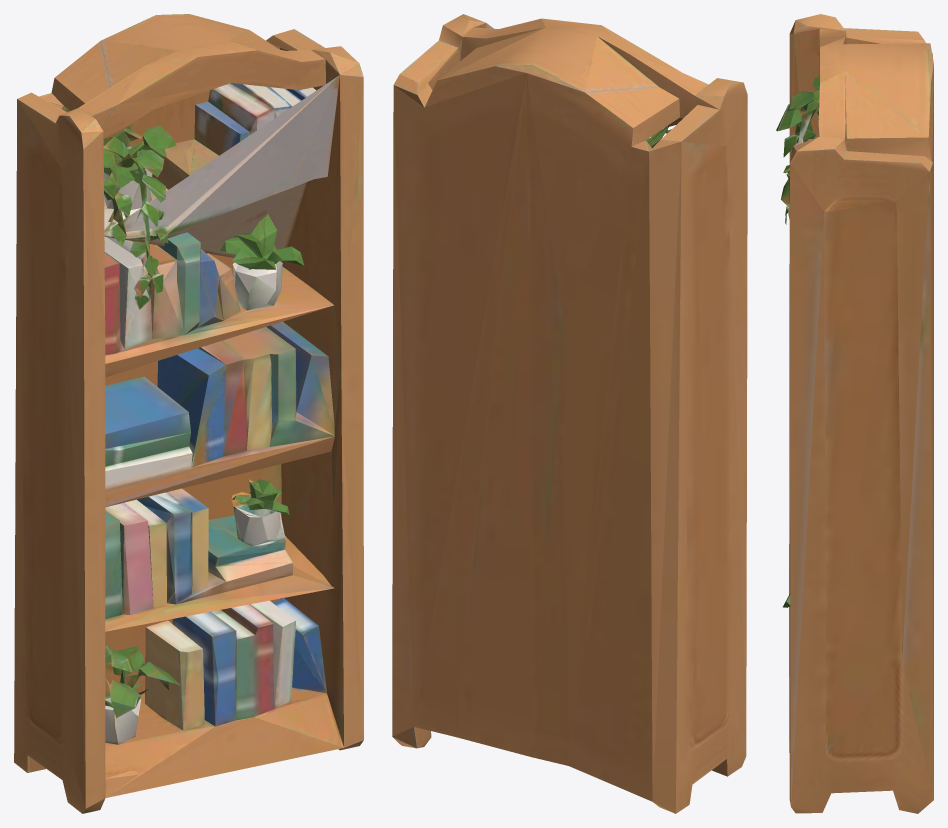
File: office-bookshelf.glb
3 views of the same model, side by side, from view 1: azimuth 30°, elevation 25°; view 2: azimuth 150°, elevation 25°; view 3: azimuth 270°, elevation 25° (orthographic). The views are drawn at different scales.
Parts seen in each view (by area): view 1: office-bookshelf-fit; view 2: office-bookshelf-fit; view 3: office-bookshelf-fit.
Part boxes in pixels (bbox=[...]): office-bookshelf-fit: bbox=[14, 14, 363, 813]; office-bookshelf-fit: bbox=[392, 14, 747, 813]; office-bookshelf-fit: bbox=[776, 14, 933, 813].
Size of the model in its own units: 0.9863 by 2.4 by 0.493.
Materials: 1 (1 with a texture image).
